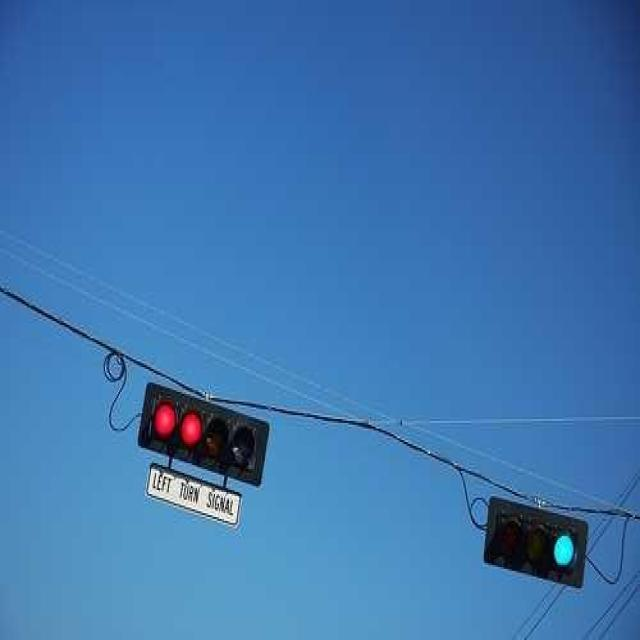Traffic Light -Green-: (479, 498, 589, 592)
Traffic Light -Red-: (134, 394, 272, 492)
